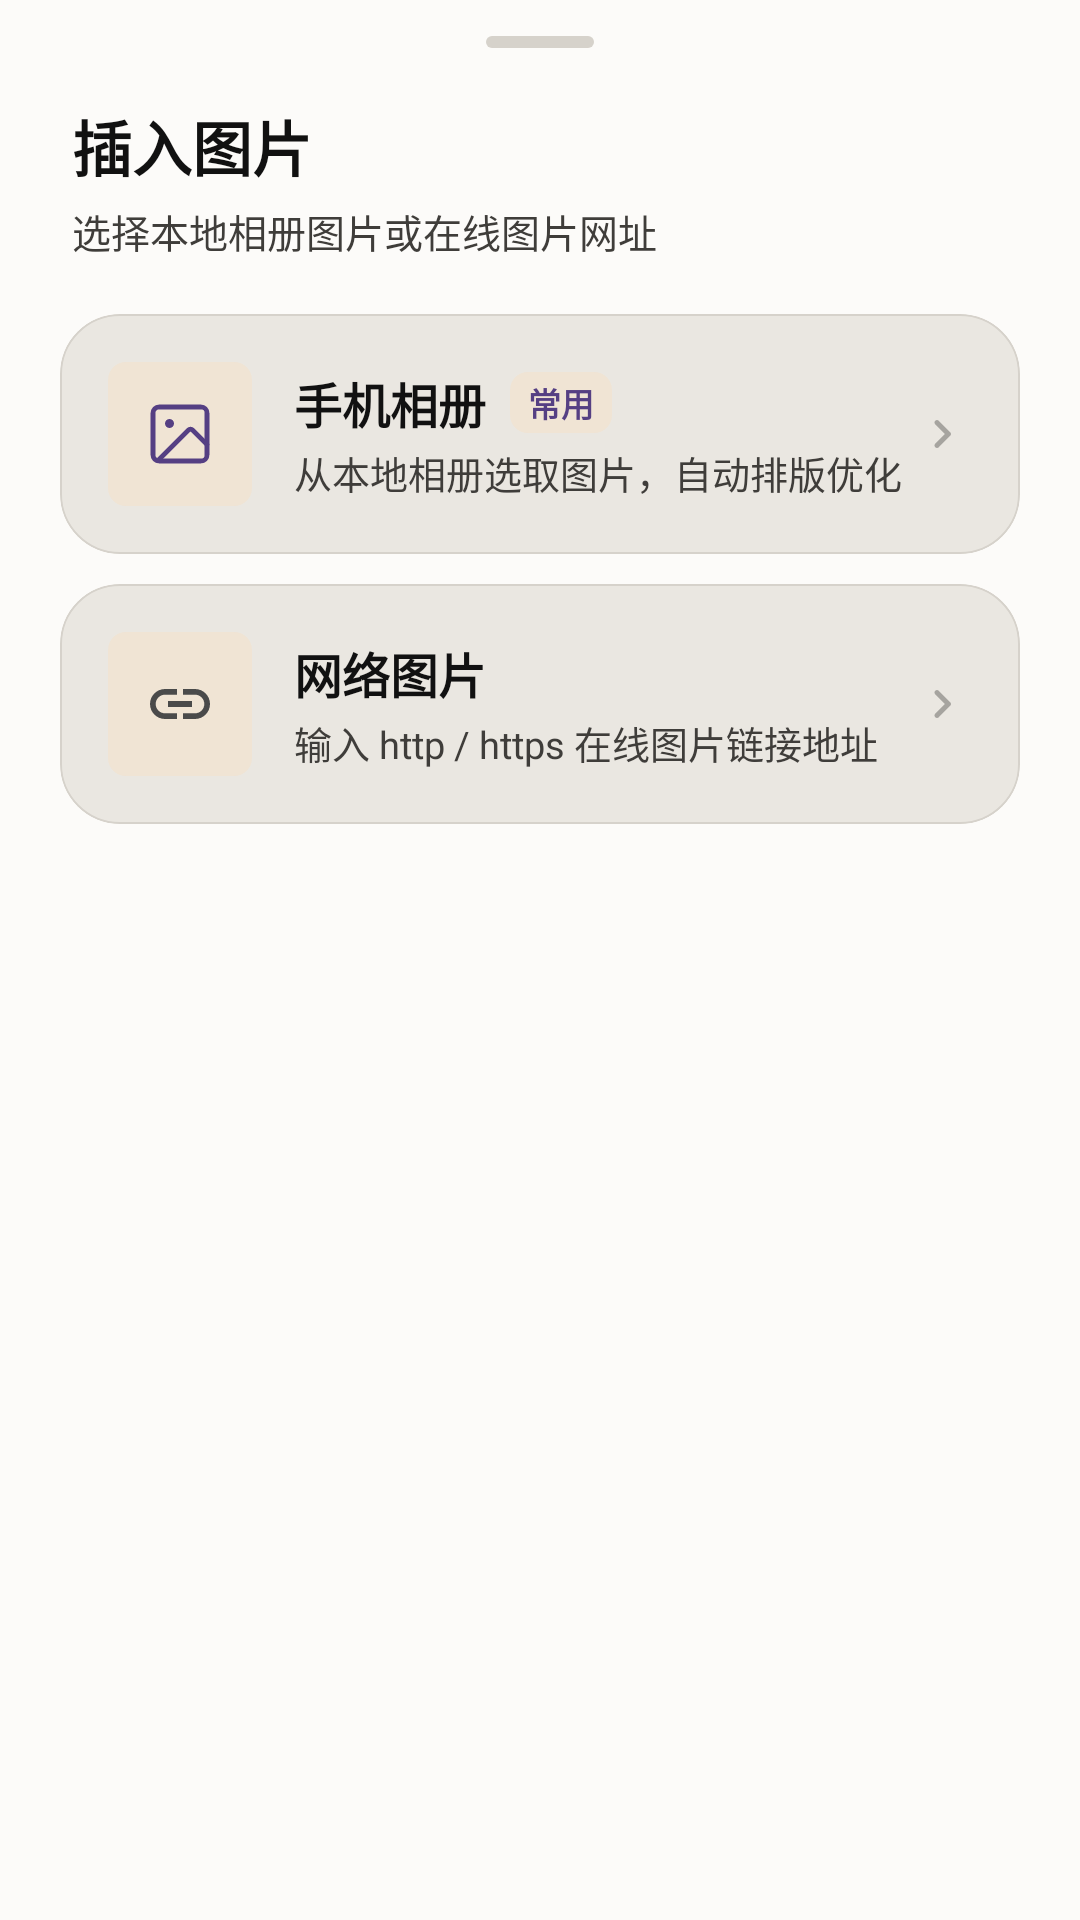

Screen size 1080×1920. Icon name, then its box in pixels as [x1=x1, y1=y1, x2=x2, y2=y2]:
chevron right: [x1=934, y1=420, x2=951, y2=448], [x1=934, y1=690, x2=951, y2=718]
link: [x1=150, y1=689, x2=210, y2=719]
